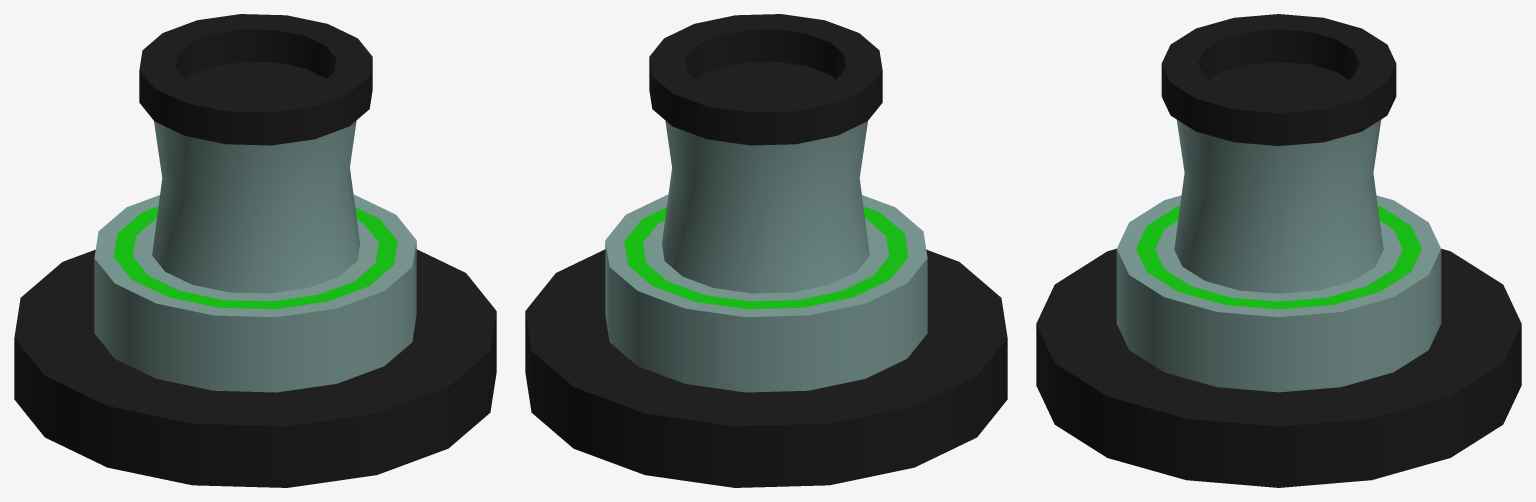
The model's file is MilitarySplashTurret.fbx.
The picture shows the model from 3 angles, left to right: view 1: azimuth 30°, elevation 25°; view 2: azimuth 150°, elevation 25°; view 3: azimuth 270°, elevation 25°; orthographic projection.
Parts seen in each view (by area): view 1: Base; view 2: Base; view 3: Base.
Boxes of the visible parts, left/top/right/bottom form: Base: left=14, top=14, right=496, bottom=487; Base: left=525, top=14, right=1007, bottom=487; Base: left=1036, top=14, right=1521, bottom=487.
Size of the model in its own units: 2 by 1.46 by 2.
